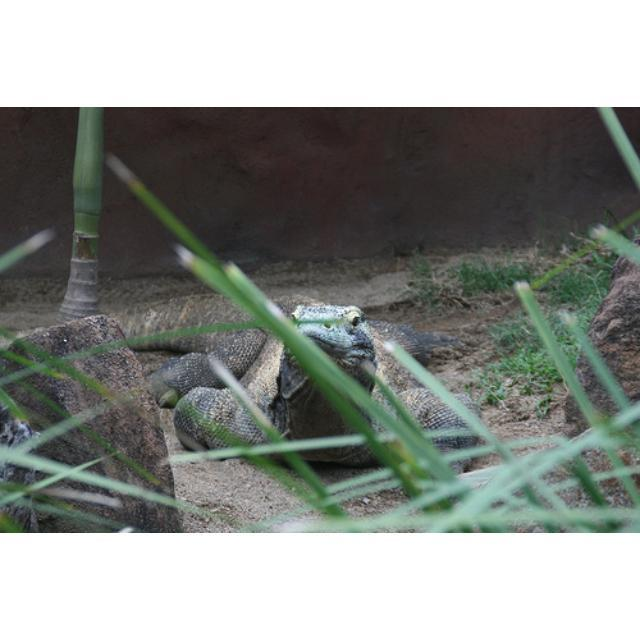KomodoDragon: (103, 288, 480, 469)
